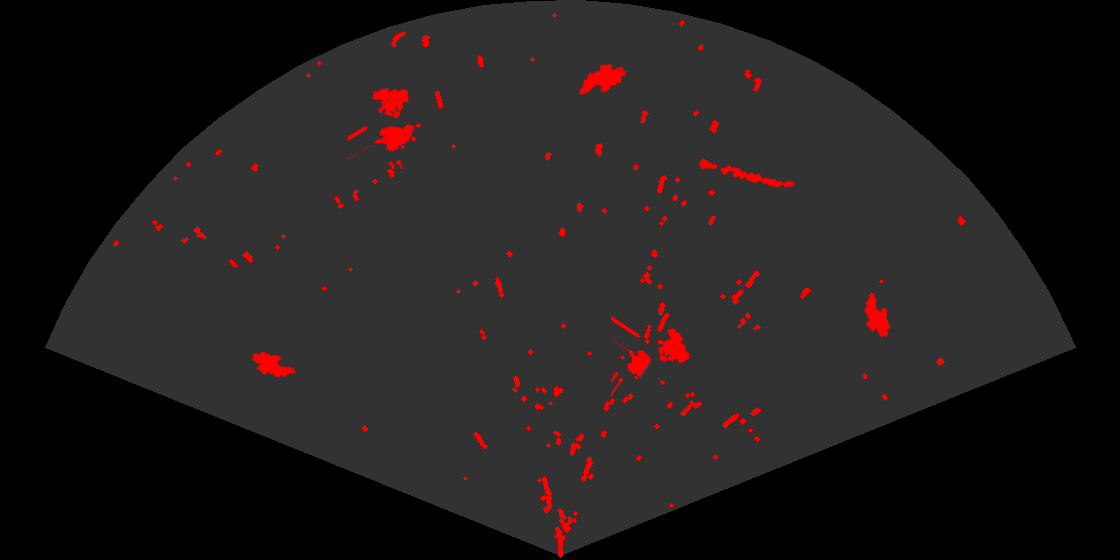AUV: (577, 62, 628, 97), (863, 290, 892, 339), (250, 350, 297, 379)
cage: (611, 314, 691, 398), (348, 87, 423, 169)
chain: (696, 157, 796, 189)
